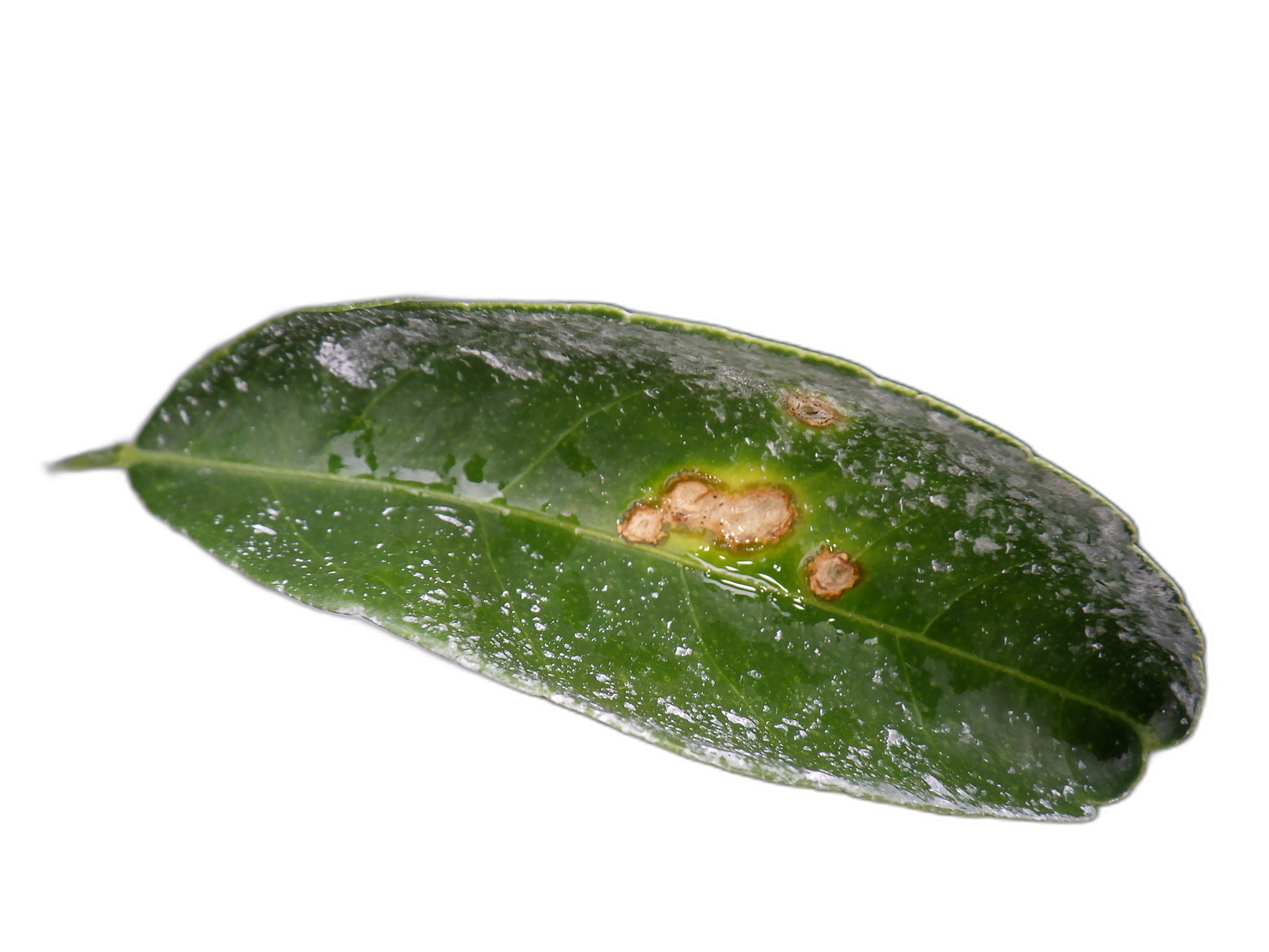Canker: (618, 472, 798, 550), (805, 543, 863, 600), (784, 390, 843, 428)
